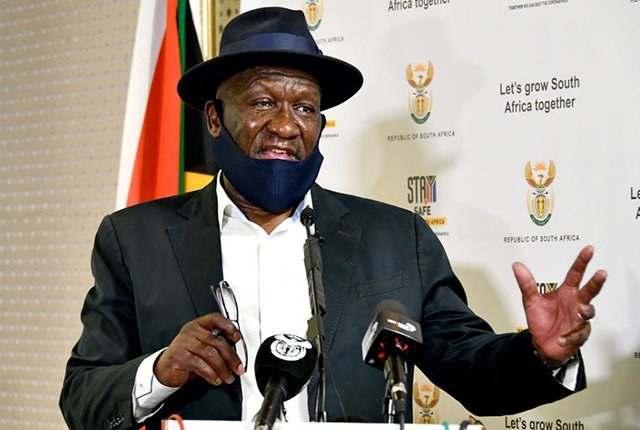with_incorrect_mask: (226, 90, 319, 178)
